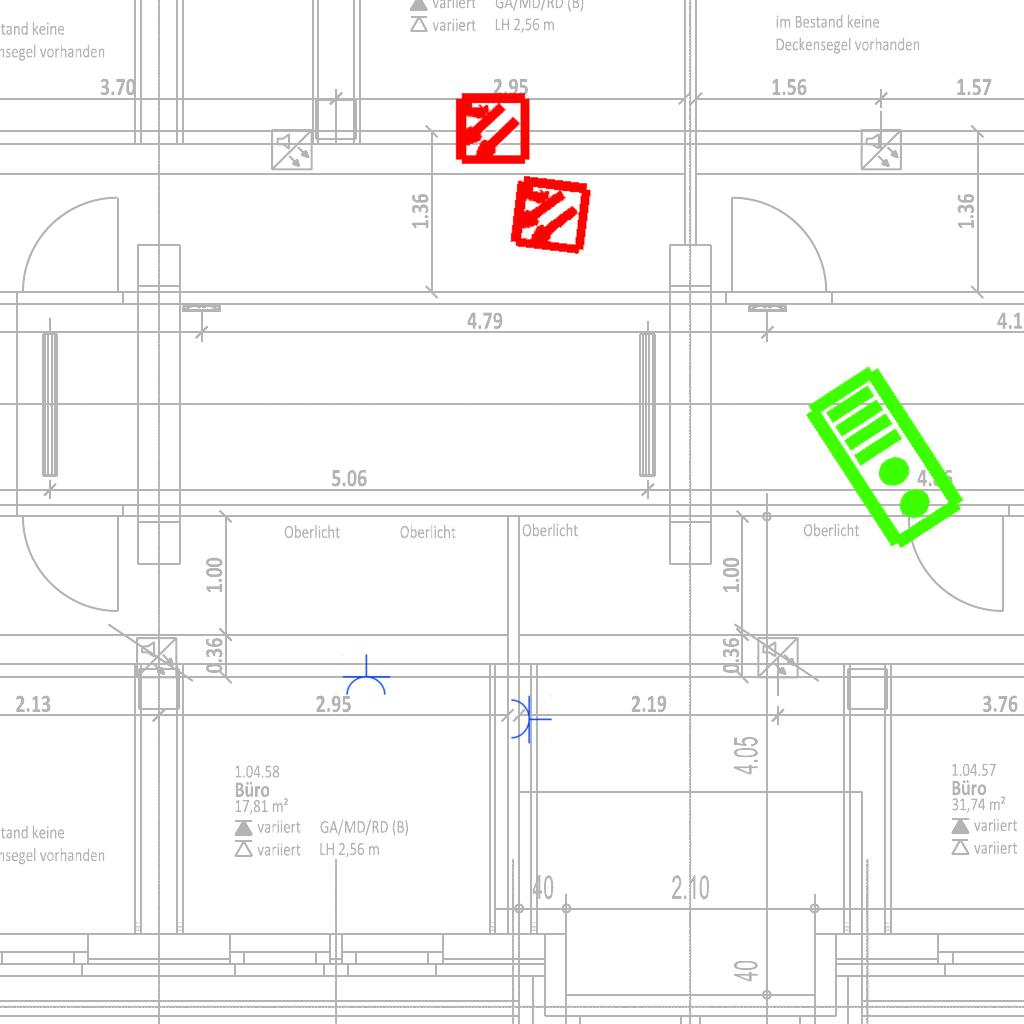Gegensprechanlage_mit_Video: (798, 357, 975, 557)
OT_Multisensormelder_(Kombination_RMO_WMD): (485, 151, 612, 278), (434, 72, 547, 185)
Schukosteckdose_einfach: (509, 694, 552, 744), (341, 654, 391, 697)
